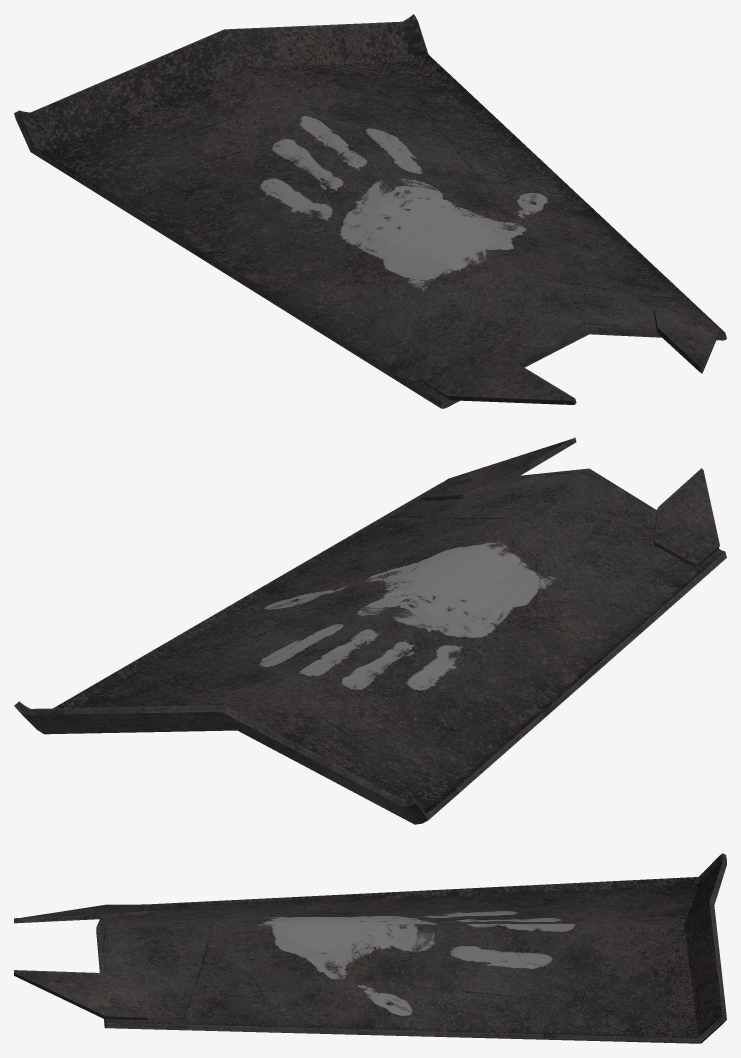
Rendered from wm_isengard_shield_a02.fbx.
The picture shows the model from 3 angles, top to bottom: view 1: azimuth 30°, elevation 25°; view 2: azimuth 150°, elevation 25°; view 3: azimuth 270°, elevation 25°; orthographic projection. The views are drawn at different scales.
Visible parts, largest first — view 1: wm_isengard_shield_a02; view 2: wm_isengard_shield_a02; view 3: wm_isengard_shield_a02.
Boxes of the visible parts, x1,y1,x2,y2 form: wm_isengard_shield_a02: [14, 14, 726, 408]; wm_isengard_shield_a02: [14, 437, 726, 824]; wm_isengard_shield_a02: [14, 853, 726, 1043].
Size of the model in its own units: 0.7936 by 1.45 by 0.1817.
1 material, 1 textured.
